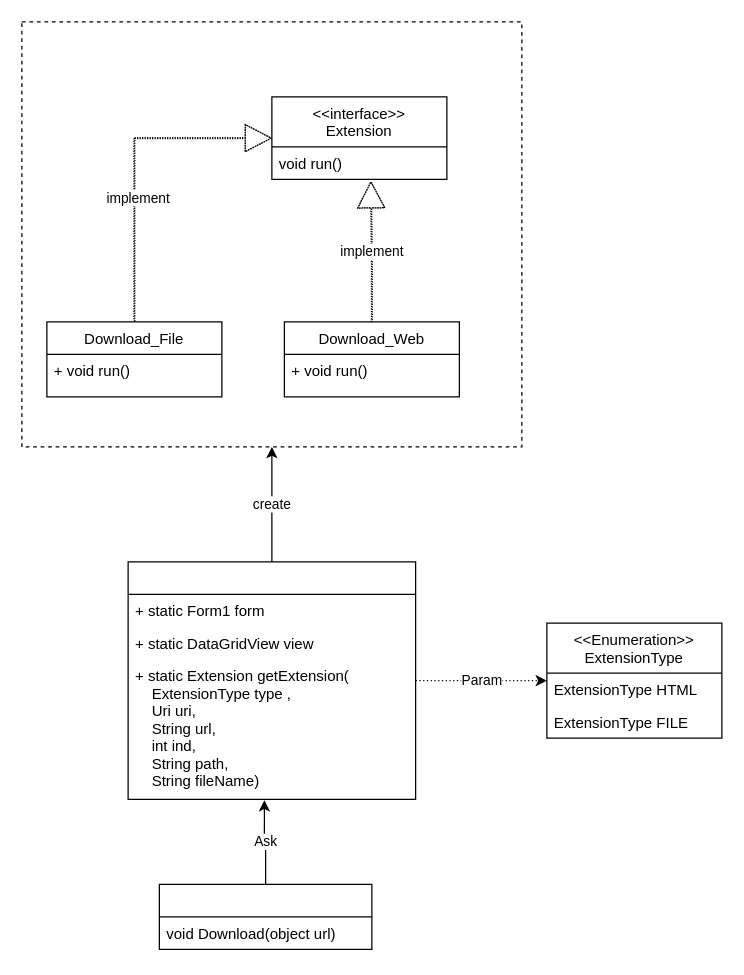
Image size: 744x975. Some labels were removed from this diagram. Here are the shapes that lost their labels. From the top down, the box of each, then its label:
(127, 561, 416, 799): IFactory
(158, 883, 372, 949): App
